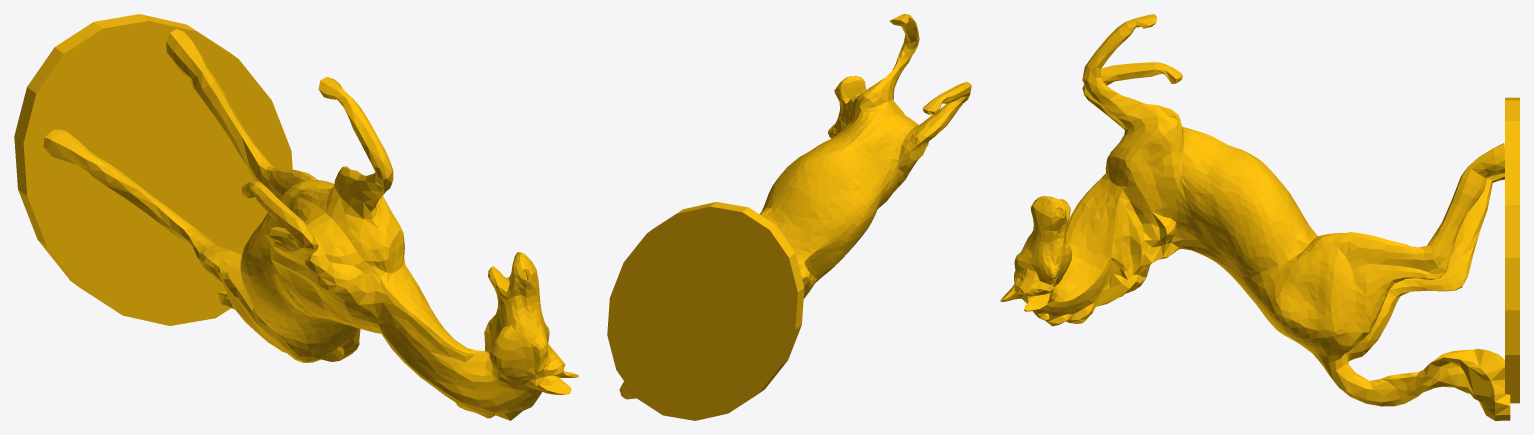
3 views of the same model, side by side, from view 1: azimuth 30°, elevation 25°; view 2: azimuth 150°, elevation 25°; view 3: azimuth 270°, elevation 25° (orthographic). The views are drawn at different scales.
Visible parts, largest first — view 1: statuette; view 2: statuette; view 3: statuette.
Part boxes in pixels (x1,y1,x2,y2): statuette: [14, 14, 578, 420]; statuette: [607, 14, 971, 420]; statuette: [1000, 14, 1519, 420].
Size of the model in its own units: 0.9124 by 1.36 by 1.87.
